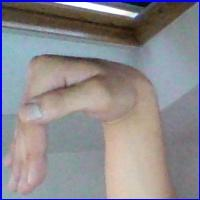del: (0, 50, 161, 173)
